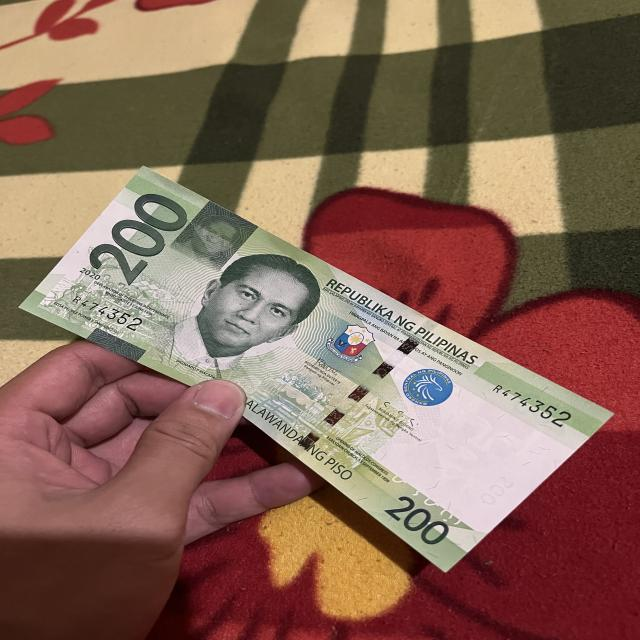concealed_value: (169, 200, 260, 273)
security_thread: (288, 317, 441, 459)
see_through_mark: (381, 463, 474, 535)
serial_number: (488, 382, 580, 431), (66, 290, 150, 337)
value: (81, 187, 194, 288)
watermark: (397, 386, 529, 502)
